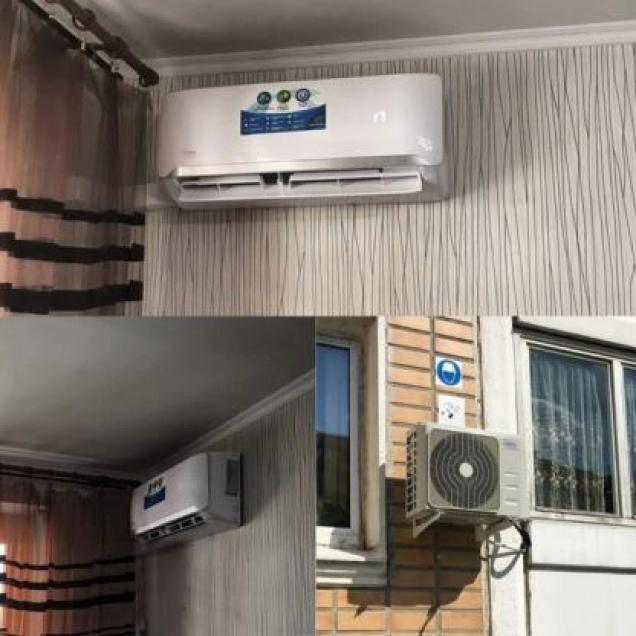AC: (155, 68, 450, 212), (128, 449, 245, 553)
